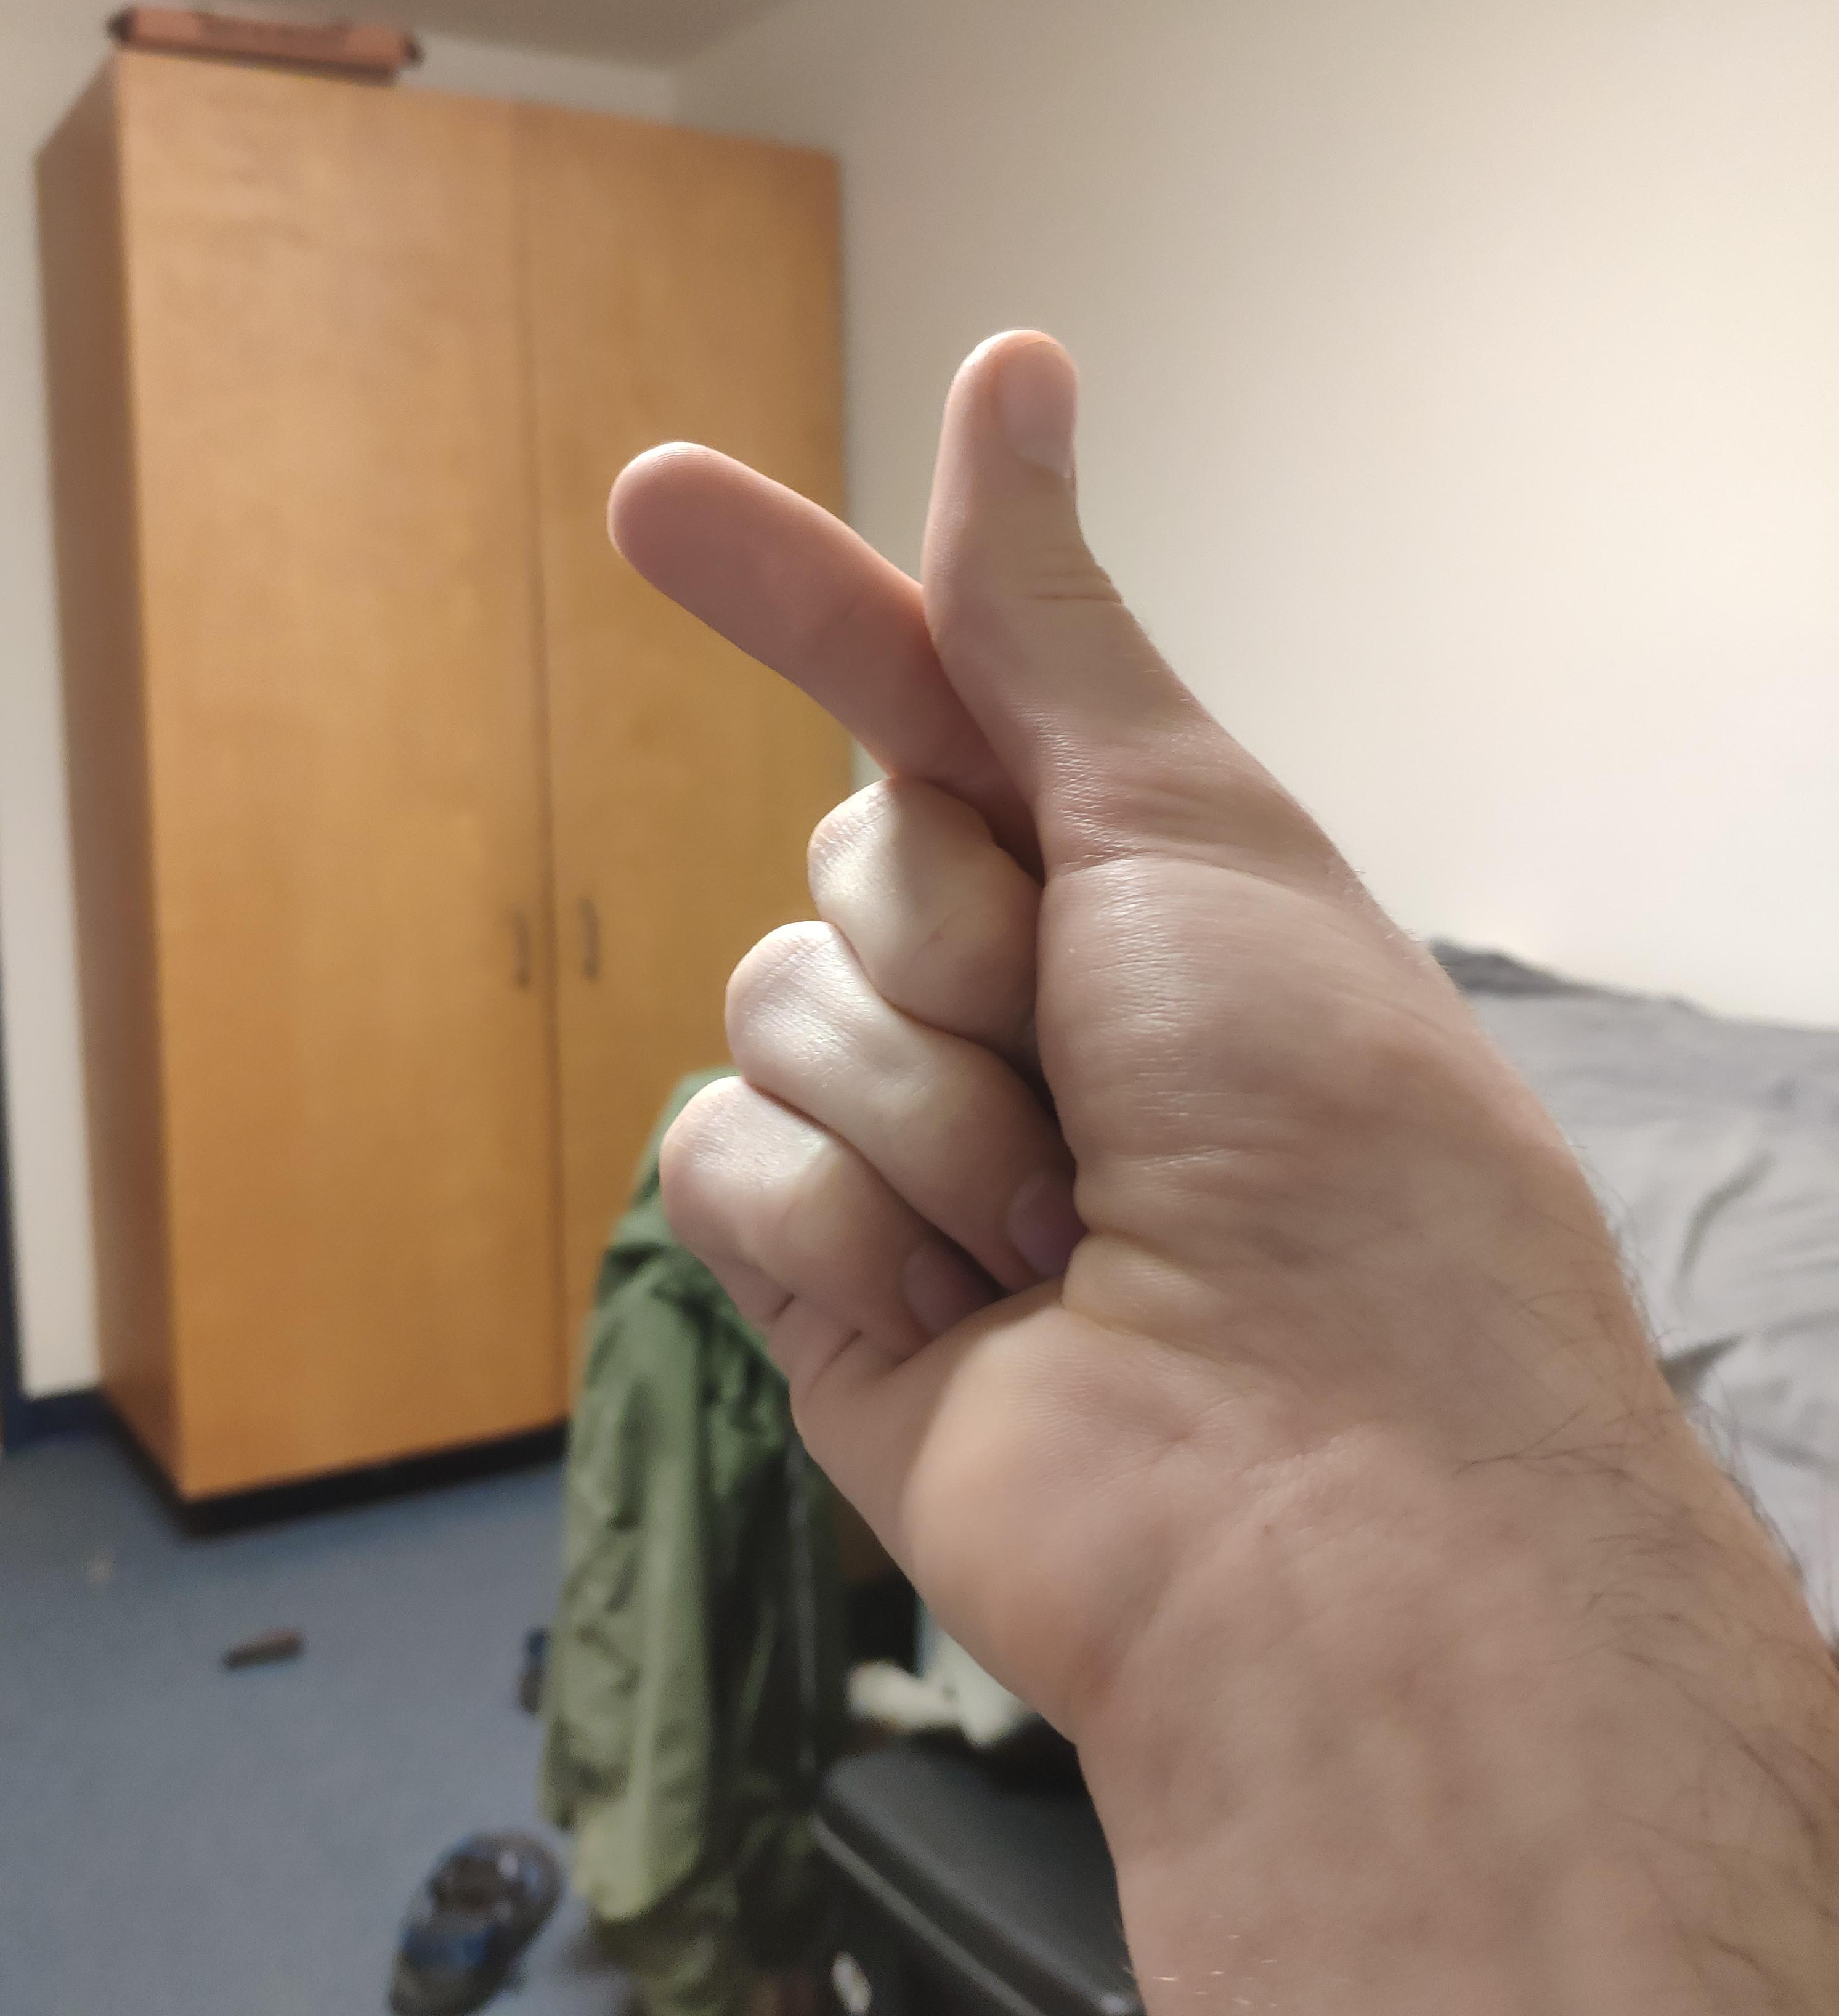heart gesture: (588, 323, 1101, 764)
